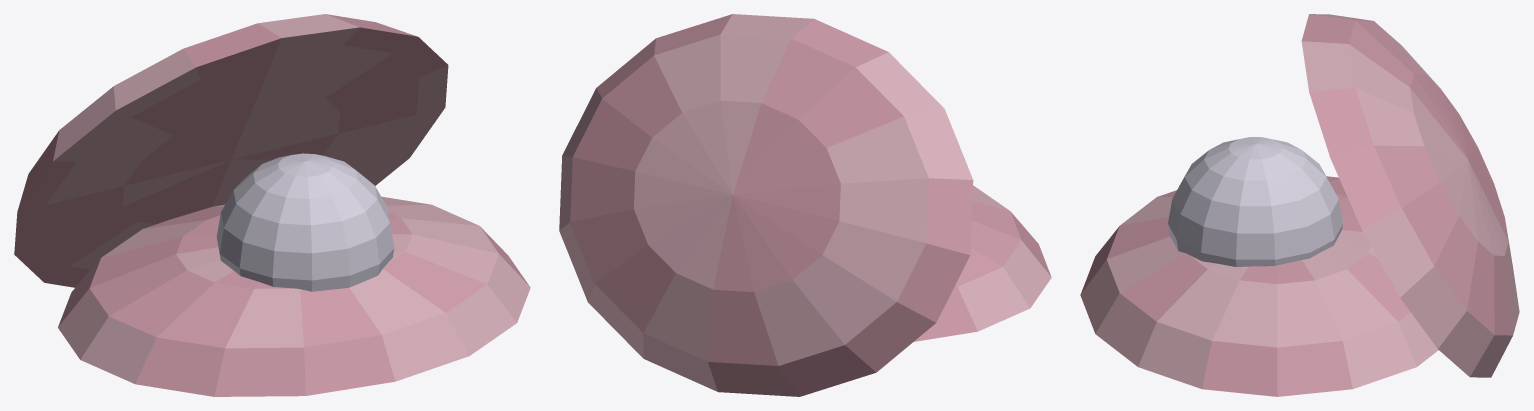
Rendered from token.glb.
The picture shows the model from 3 angles, left to right: view 1: azimuth 30°, elevation 25°; view 2: azimuth 150°, elevation 25°; view 3: azimuth 270°, elevation 25°; orthographic projection. The views are drawn at different scales.
Visible parts, largest first — view 1: token; view 2: token; view 3: token.
Boxes of the visible parts, bbox=[...] form: token: bbox=[14, 14, 530, 396]; token: bbox=[559, 14, 1051, 396]; token: bbox=[1080, 14, 1519, 396].
Size of the model in its own units: 1.1 by 0.7794 by 1.
